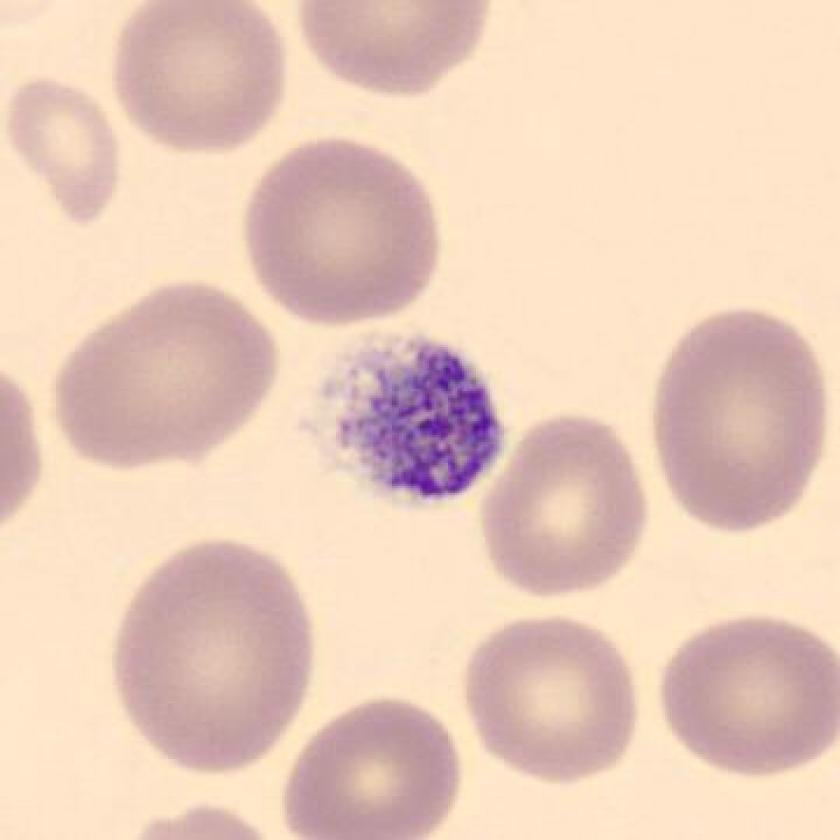platelets: (293, 323, 514, 515)
